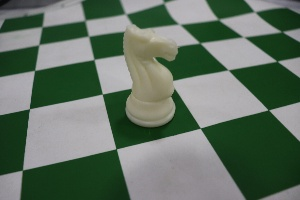white_horse: (116, 12, 180, 131)
